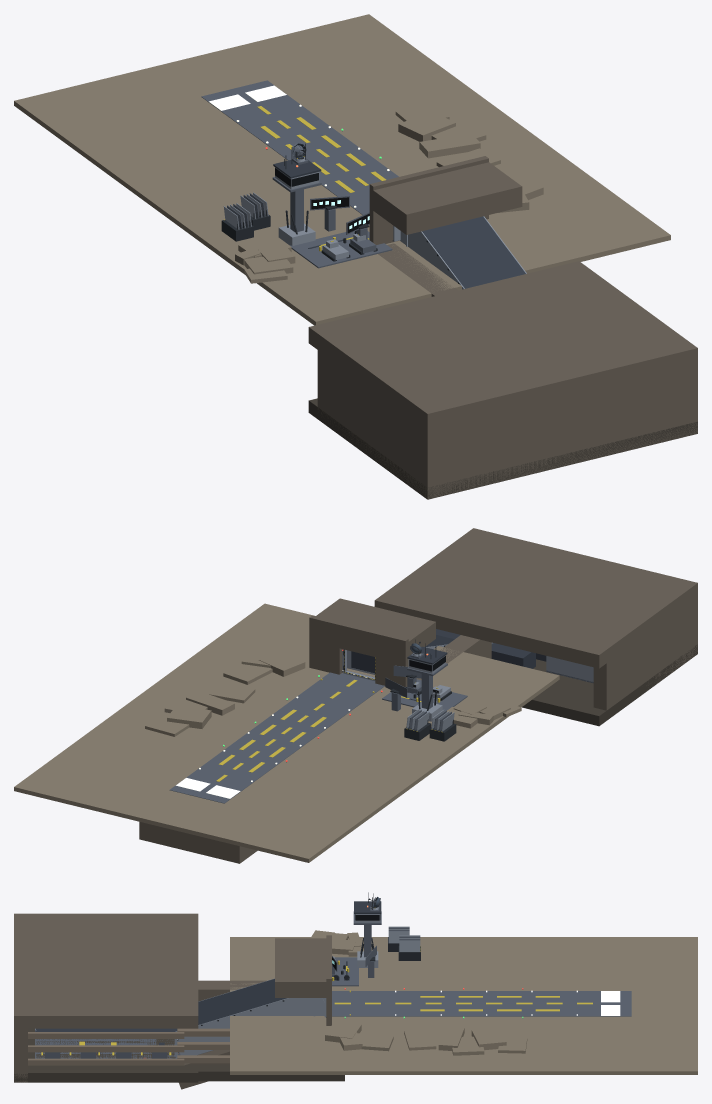
Rendered from runway-site-s2.glb.
3 renders of one model, top to bottom at view 1: azimuth 30°, elevation 25°; view 2: azimuth 150°, elevation 25°; view 3: azimuth 270°, elevation 25°, orthographic. The views are drawn at different scales.
Parts seen in each view (by area): view 1: groundPlate, rockRoof0, rockWallN, rockWallW (×2), stripBed, bermMass, rockFloor, rampRoof, towerApron, stripBerm6, bermFace0, stripBerm5 (+1 smaller); view 2: groundPlate, rockRoof0, stripBed, rockWallW (×2), rockFloor, bermMass, stripPlinth, bermFace1, bermFace0, bermFace2, hallWallR, stripBerm6 (+7 smaller); view 3: groundPlate, rockRoof0, stripBed, rockFloor (×2), bermMass, rampWallR, rampRoof, rockStrata0 (×2), rockStrata1 (×2), rockStrata2 (×2), galFloor, rockWallW (+12 smaller).
Part boxes in pixels (bbox=[...]): groundPlate: bbox=[14, 14, 670, 325]; rockRoof0: bbox=[308, 261, 697, 430]; rockWallN: bbox=[418, 364, 697, 499]; rockWallW (×2): bbox=[317, 243, 458, 492]; stripBed: bbox=[201, 80, 398, 214]; bermMass: bbox=[372, 162, 522, 234]; rockFloor: bbox=[308, 398, 697, 499]; rampRoof: bbox=[422, 216, 525, 288]; towerApron: bbox=[290, 231, 392, 268]; stripBerm6: bbox=[398, 111, 455, 141]; bermFace0: bbox=[369, 175, 409, 244]; stripBerm5: bbox=[419, 133, 480, 158]; groundPlate: bbox=[14, 603, 559, 862]; rockRoof0: bbox=[374, 528, 697, 668]; stripBed: bbox=[169, 672, 384, 803]; rockWallW (×2): bbox=[416, 602, 690, 710]; rockFloor: bbox=[522, 644, 697, 726]; bermMass: bbox=[316, 598, 435, 658]; stripPlinth: bbox=[139, 821, 257, 863]; bermFace1: bbox=[309, 615, 342, 674]; bermFace0: bbox=[375, 631, 408, 686]; bermFace2: bbox=[339, 623, 377, 656]; hallWallR: bbox=[546, 656, 593, 682]; stripBerm6: bbox=[167, 705, 211, 728]; groundPlate: bbox=[230, 937, 697, 1074]; rockRoof0: bbox=[14, 913, 198, 1028]; stripBed: bbox=[332, 991, 631, 1016]; rockFloor (×2): bbox=[14, 1028, 344, 1082]; bermMass: bbox=[275, 938, 327, 997]; rampWallR: bbox=[175, 998, 324, 1055]; rampRoof: bbox=[177, 979, 286, 1030]; rockStrata0 (×2): bbox=[28, 1055, 229, 1065]; rockStrata1 (×2): bbox=[28, 1042, 229, 1052]; rockStrata2 (×2): bbox=[28, 1028, 229, 1038]; galFloor: bbox=[36, 1039, 175, 1058]; rockWallW: bbox=[198, 980, 266, 1001].
Size of the model in its own units: 98.03 by 43.73 by 196.
